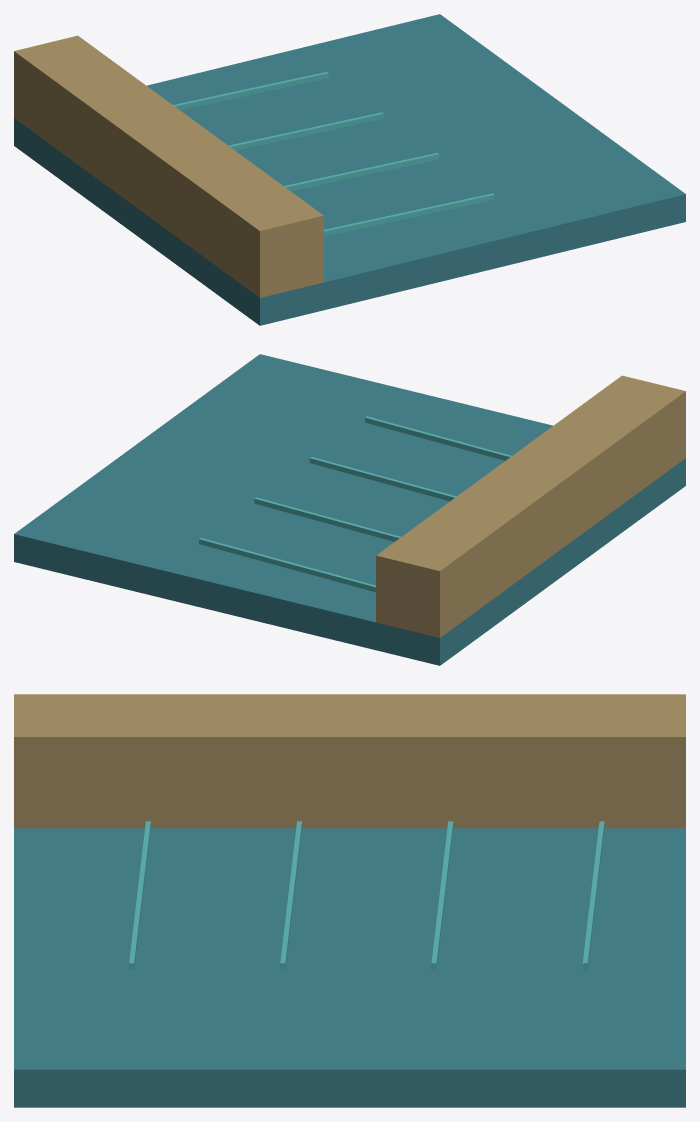
File: terrain-water-shore.lod0.glb
The picture shows the model from 3 angles, top to bottom: view 1: azimuth 30°, elevation 25°; view 2: azimuth 150°, elevation 25°; view 3: azimuth 270°, elevation 25°; orthographic projection. The views are drawn at different scales.
Parts seen in each view (by area): view 1: terrain-water-shore__body; view 2: terrain-water-shore__body; view 3: terrain-water-shore__body.
Boxes of the visible parts, x1,y1,x2,y2 form: terrain-water-shore__body: (14,14,685,325); terrain-water-shore__body: (14,354,685,665); terrain-water-shore__body: (14,694,685,1107).
Size of the model in its own units: 2 by 0.425 by 2.
